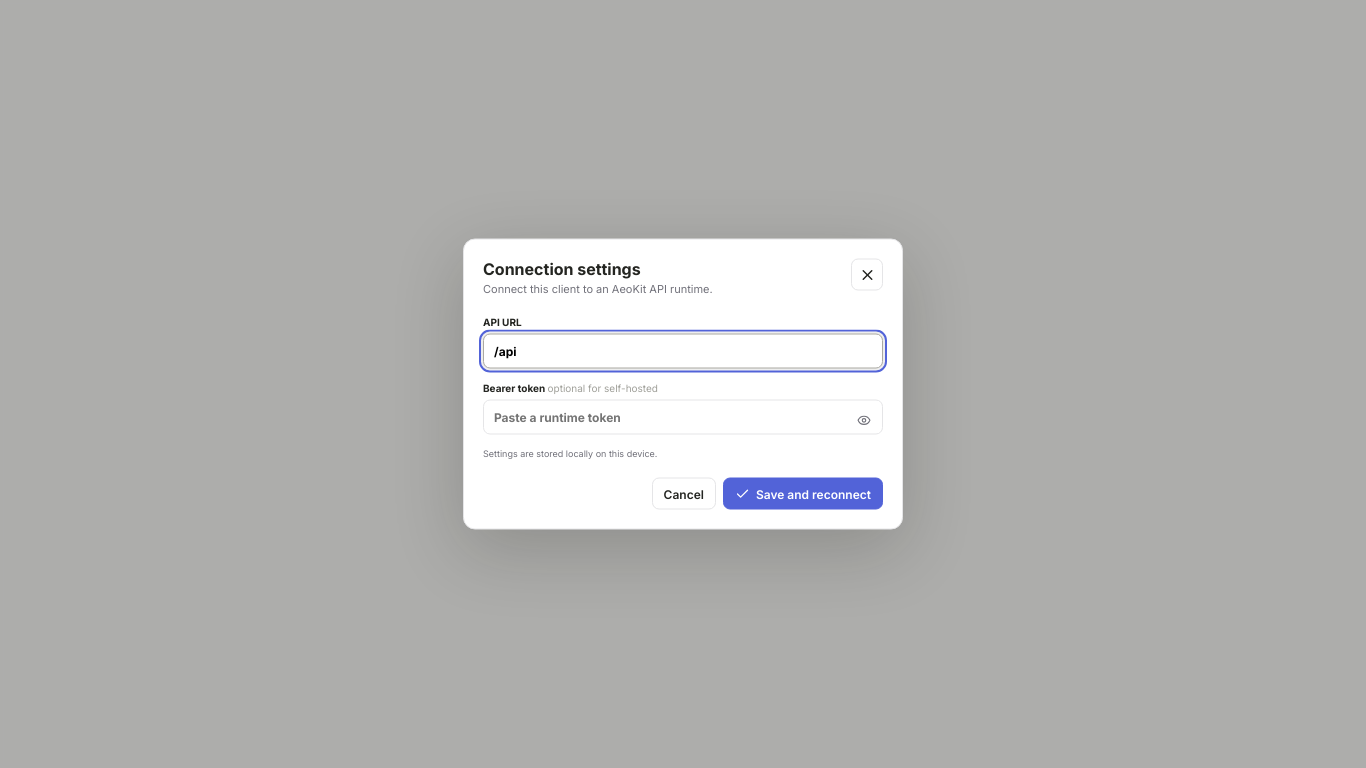
Test: SettingsDialog › rejects malformed API URLs before saving
The image size is (1366, 768).
Replace the text in the field labelled "API URL" with "not a url" at (683, 351), box x1=483 y1=334 x2=883 y2=368
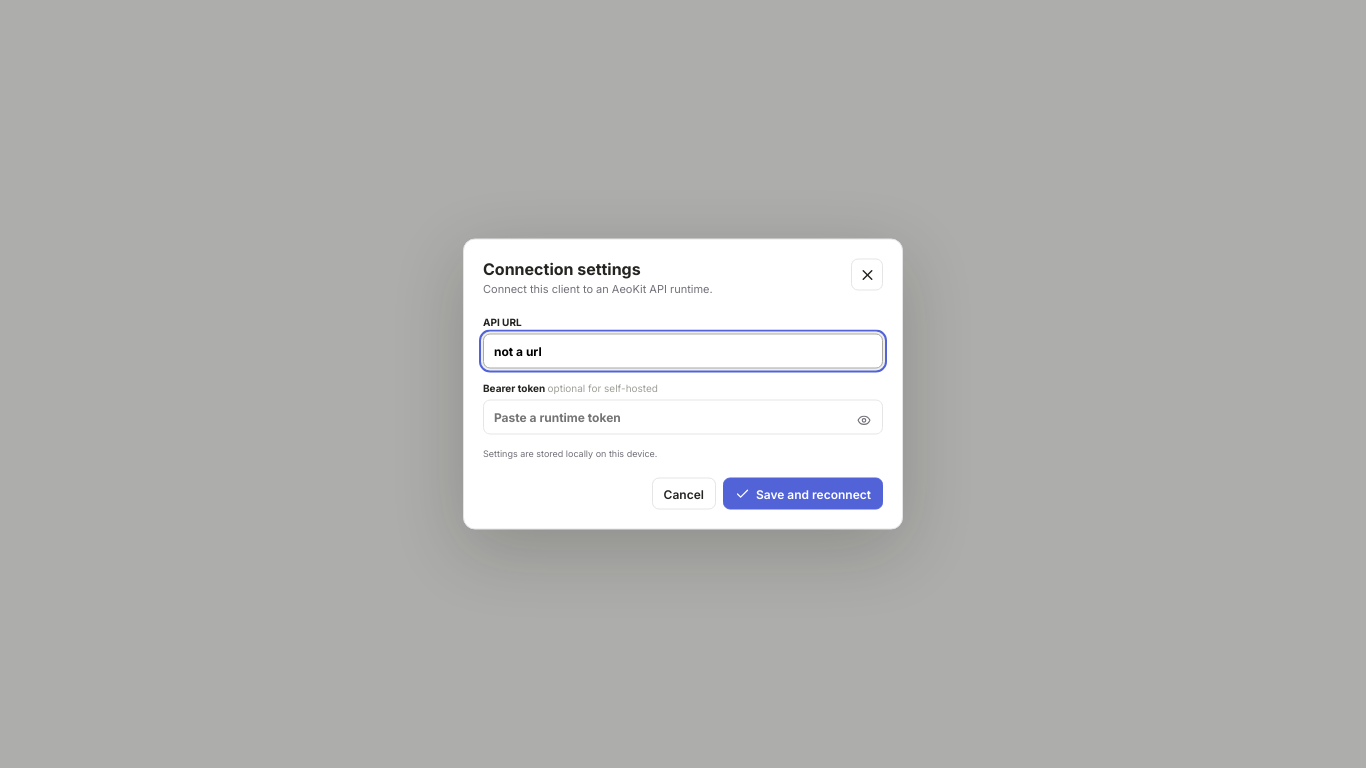
Click the button "Save and reconnect" at (803, 494), box x1=723 y1=478 x2=883 y2=510
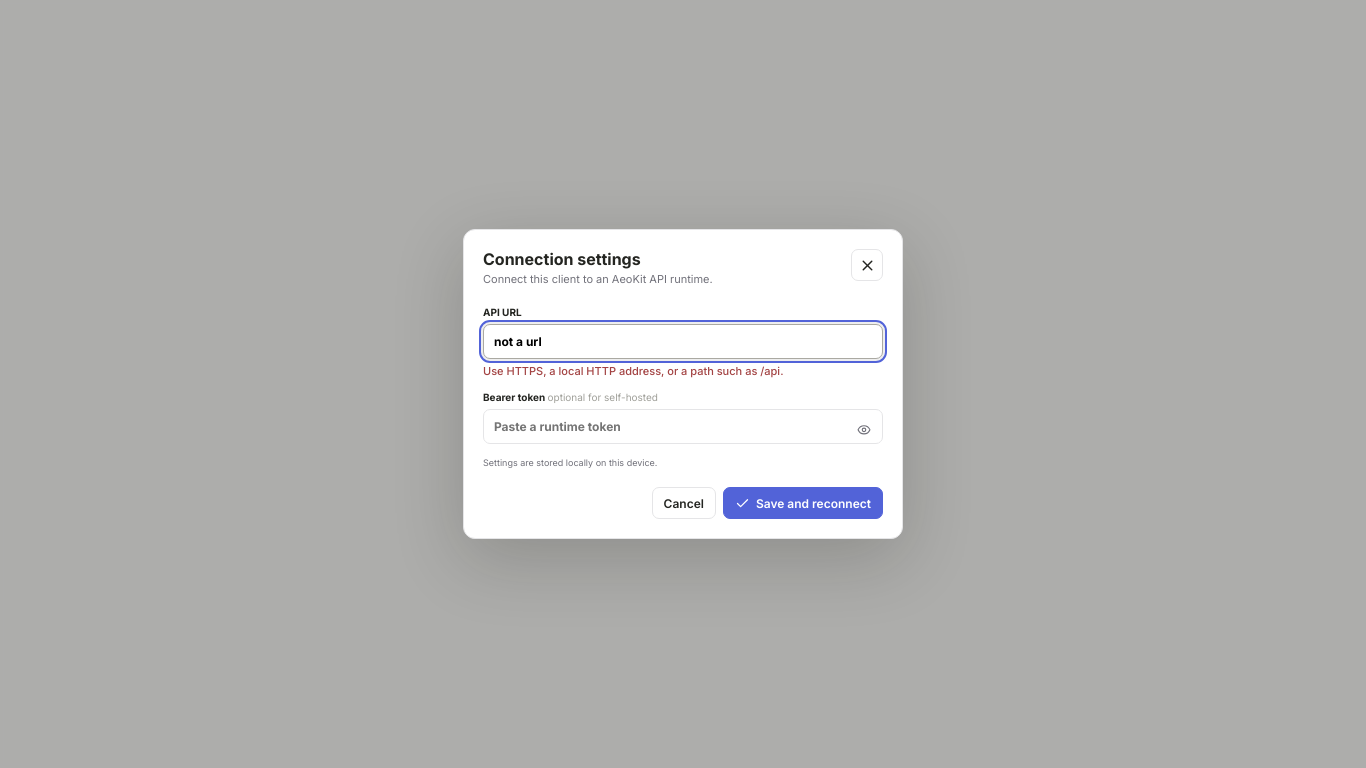
Check: the message shows "Use HTTPS", box x1=483 y1=364 x2=784 y2=378
